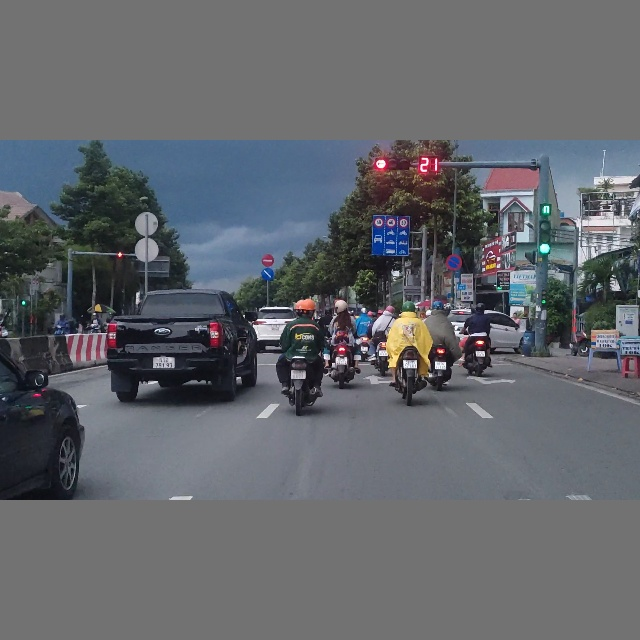P.102: (261, 254, 274, 266)
P.127*60: (374, 218, 384, 227), (387, 217, 396, 227), (399, 218, 408, 228)
P.131a: (446, 254, 462, 271)
R.302a: (261, 268, 274, 280)
R.415a: (373, 229, 409, 255)
